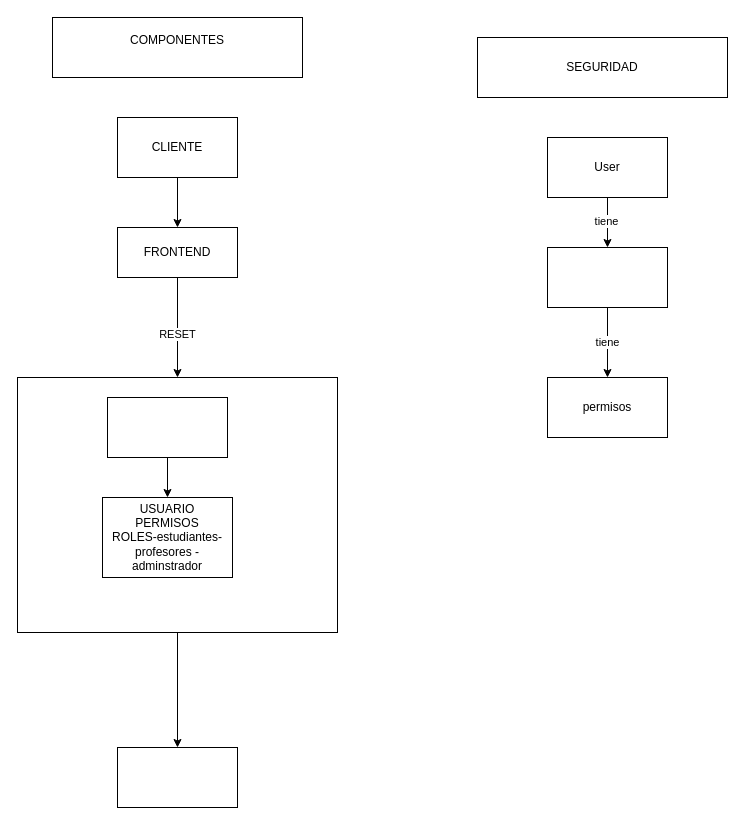
The diagram is 745 pixels wide and 825 high, and some of its shapes have lost their labels. The centre of each missing label's shape, as x and y in pixels:
BASE DE DATOS: (177,777)
roles: (607,277)
SPRING BOOT API: (167,427)
